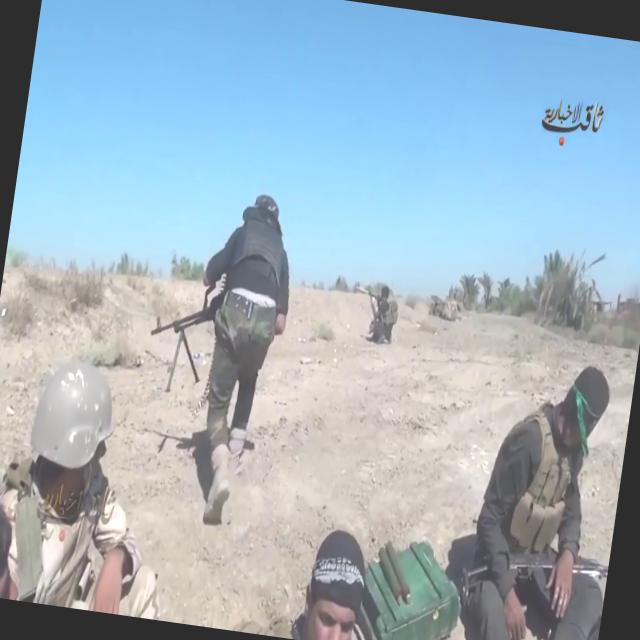long weapon: (127, 266, 246, 408), (447, 528, 610, 620)
